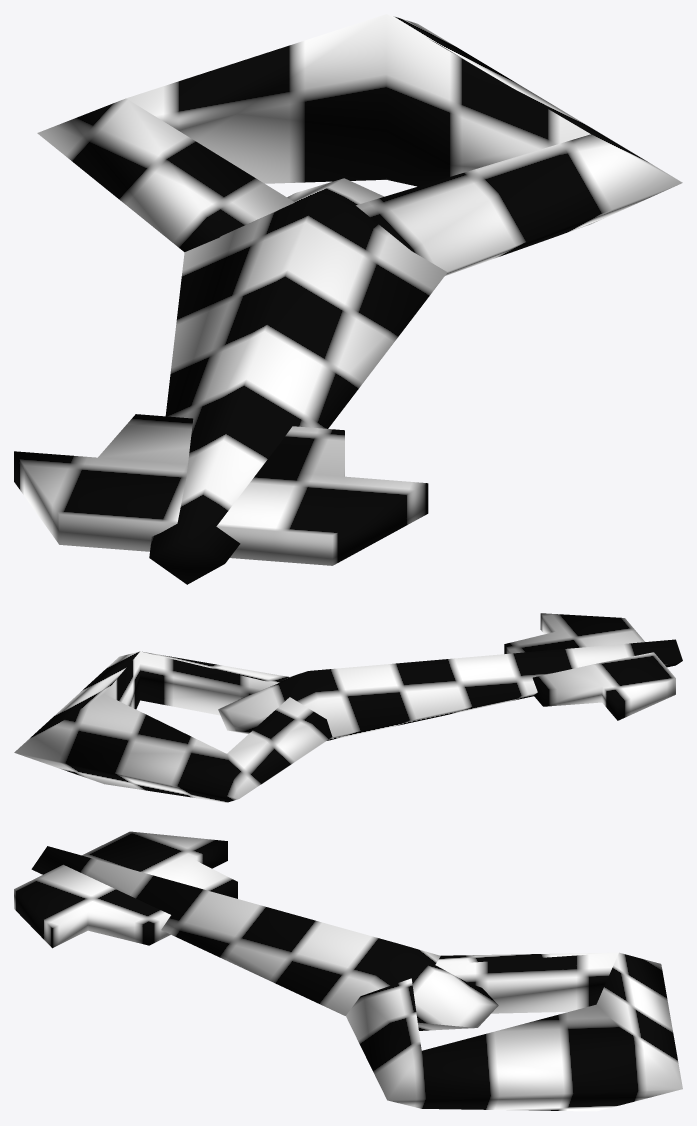
File: initqu27.dae
3 views of the same model, one above another, from view 1: azimuth 30°, elevation 25°; view 2: azimuth 150°, elevation 25°; view 3: azimuth 270°, elevation 25° (orthographic). The views are drawn at different scales.
Visible parts, largest first — view 1: item; view 2: item; view 3: item.
Part boxes in pixels (x1,y1,x2,y2): item: [14, 14, 682, 584]; item: [14, 613, 682, 802]; item: [14, 831, 682, 1111].
Size of the model in its own units: 1.44 by 1.57 by 0.2774.
Materials: 1 (1 with a texture image).
